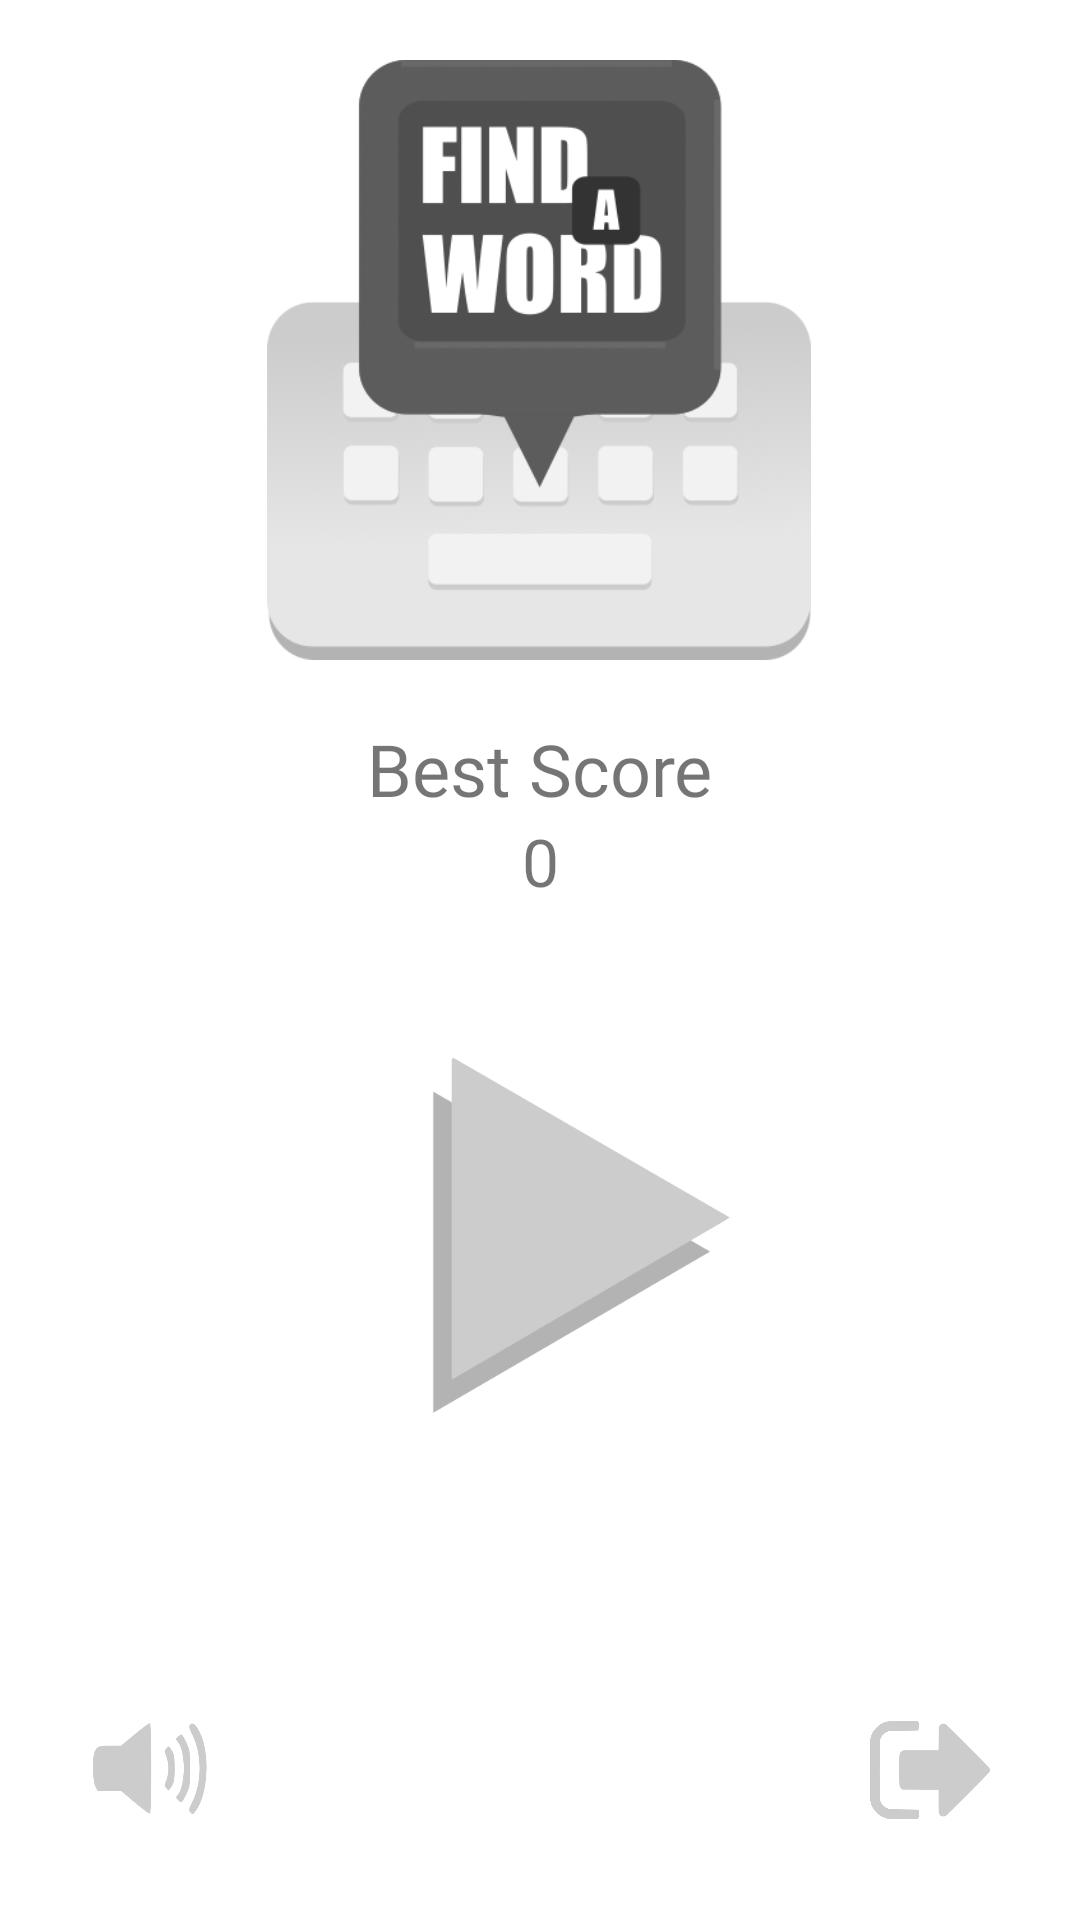

Named icons in this screenshot (1080w x 1920h) and their centers, point (x, y):
exit: point (930, 1770)
volume: point (150, 1768)
